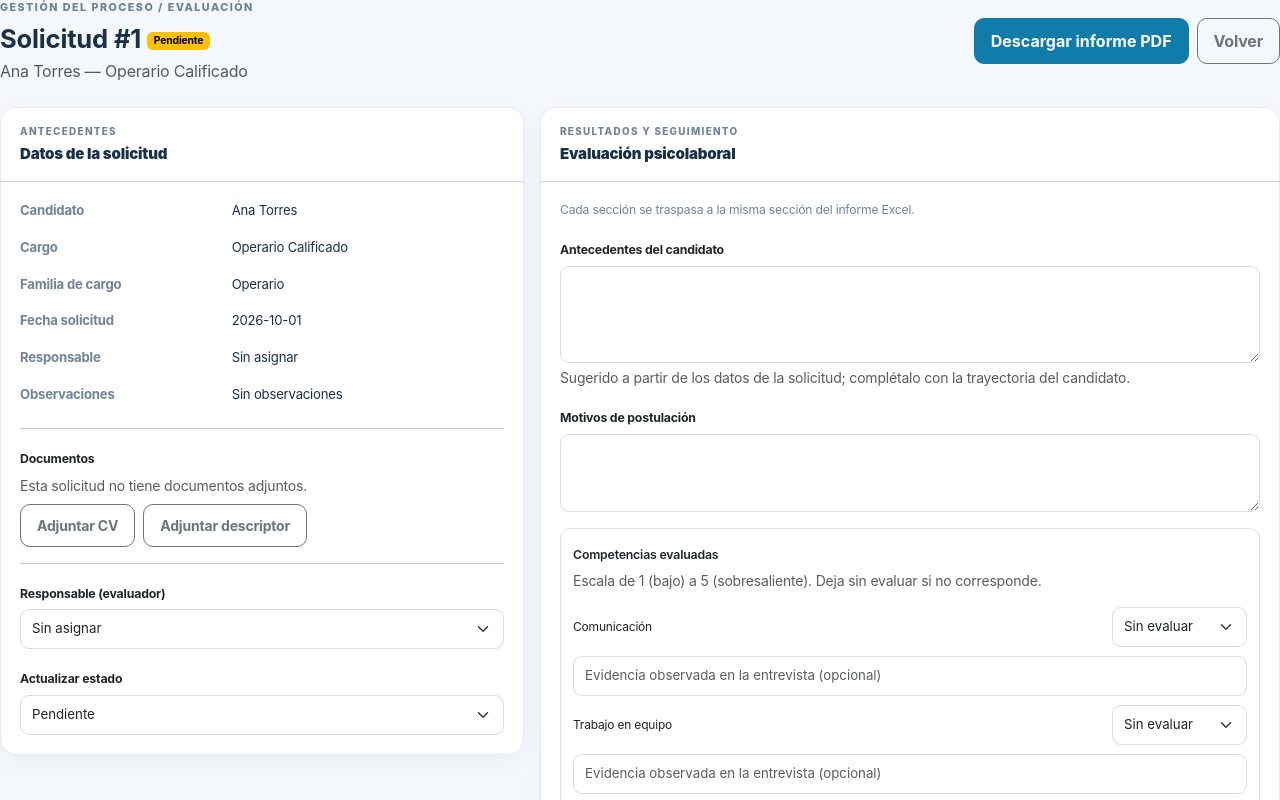
SolicitudDetallePage › muestra el error si no se puede cerrar sin evaluación, sin perder la página
expect the heading "Solicitud #1 Pendiente" is shown: met, box [0,23,210,54]
Select "Finalizada" in the dropdown labelled "Actualizar estado" at [262, 715], box [20,695,504,735]
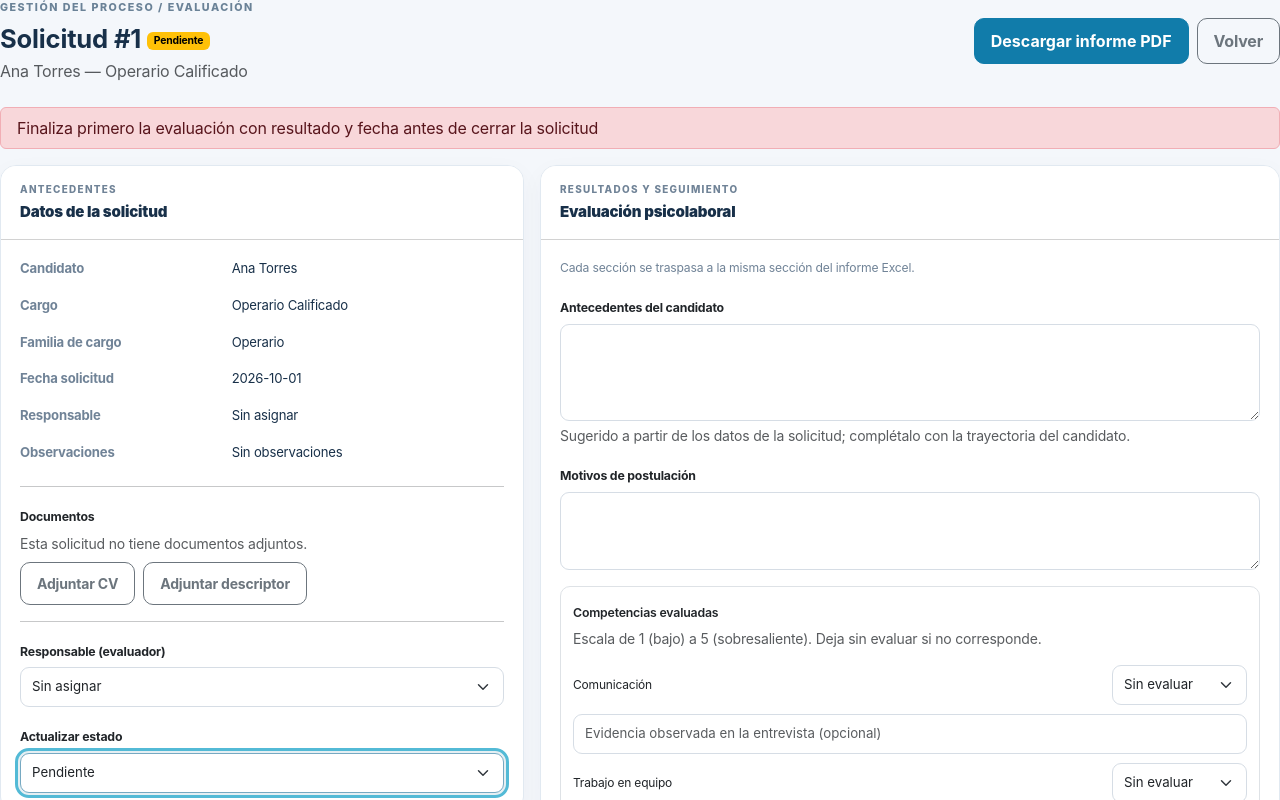
expect the heading "Solicitud #1 Pendiente" is shown: met, box [0,23,210,54]
expect the text "Finaliza primero la evaluación" is shown: met, box [17,118,598,138]
